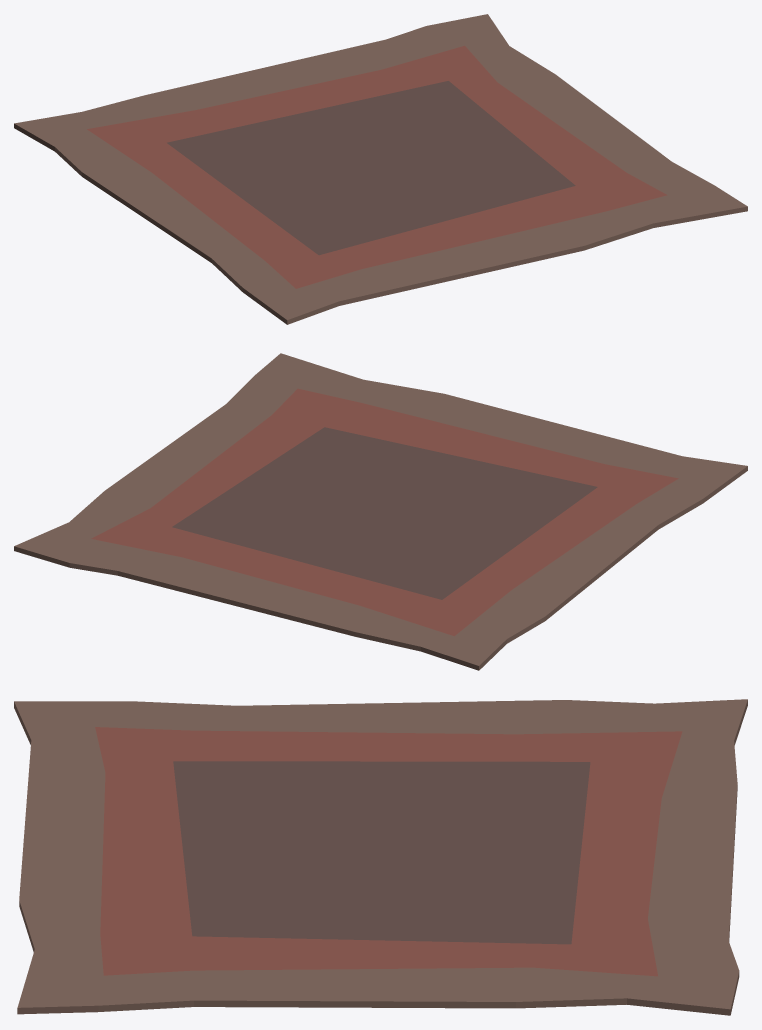
The model's file is floor_rug.fbx.
3 renders of one model, top to bottom at view 1: azimuth 30°, elevation 25°; view 2: azimuth 150°, elevation 25°; view 3: azimuth 270°, elevation 25°, orthographic. The views are drawn at different scales.
Visible parts, largest first — view 1: Rug; view 2: Rug; view 3: Rug.
Boxes of the visible parts, bbox=[...] form: Rug: bbox=[14, 14, 747, 324]; Rug: bbox=[14, 353, 747, 670]; Rug: bbox=[14, 699, 747, 1015].
Size of the model in its own units: 441 by 4.26 by 441.
